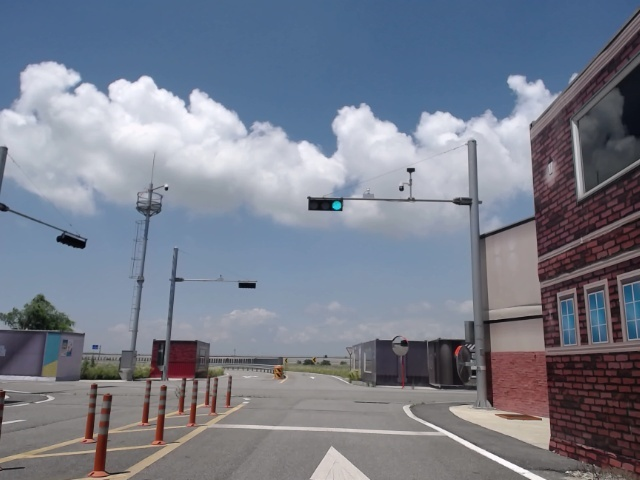green_3: (308, 198, 342, 210)
